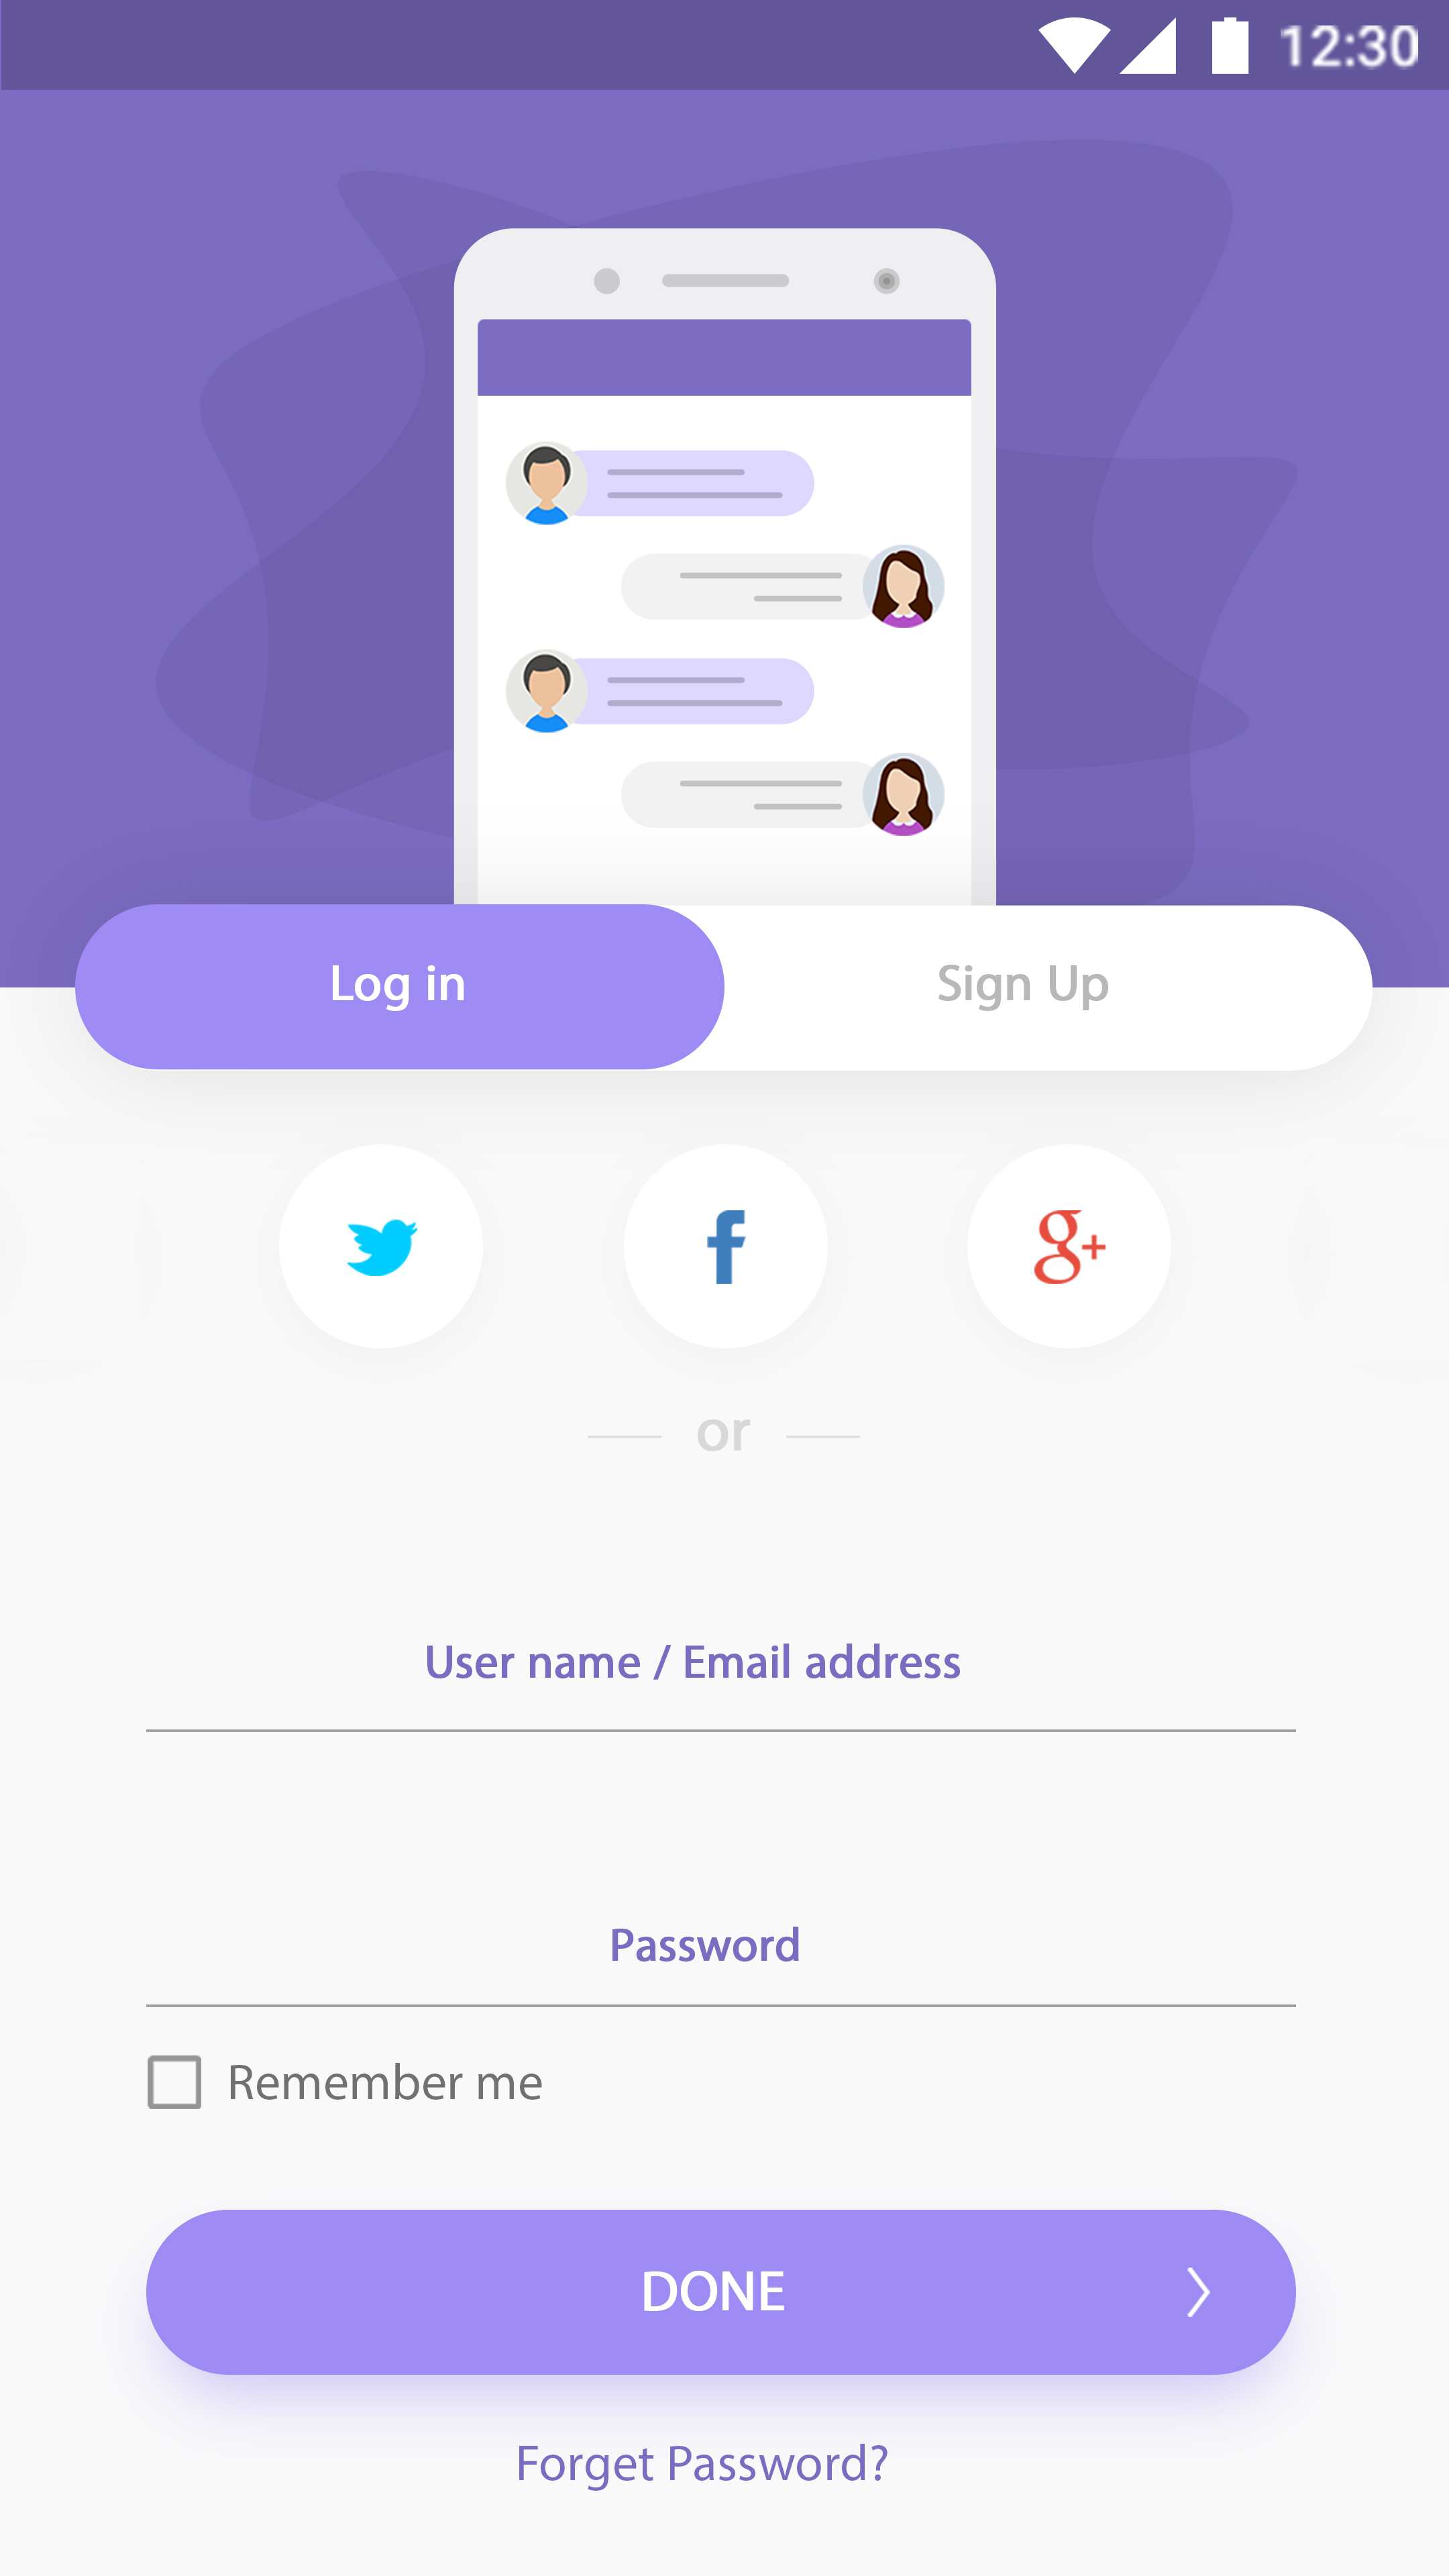CheckedTextView: (147, 2054, 543, 2111)
EditText: (147, 1644, 1297, 1732), (147, 1927, 1297, 2008)
Icon: (278, 1143, 485, 1350), (623, 1145, 830, 1350), (968, 1145, 1173, 1350)
Image: (453, 228, 998, 904)
Text: (426, 1644, 961, 1681), (518, 2443, 888, 2491), (230, 2061, 543, 2100), (610, 1927, 800, 1962), (697, 1419, 752, 1453)
TextButton: (147, 2210, 1297, 2376), (74, 904, 725, 1072), (725, 904, 1373, 1072)
UpperTaskBar: (0, 0, 1449, 92)
